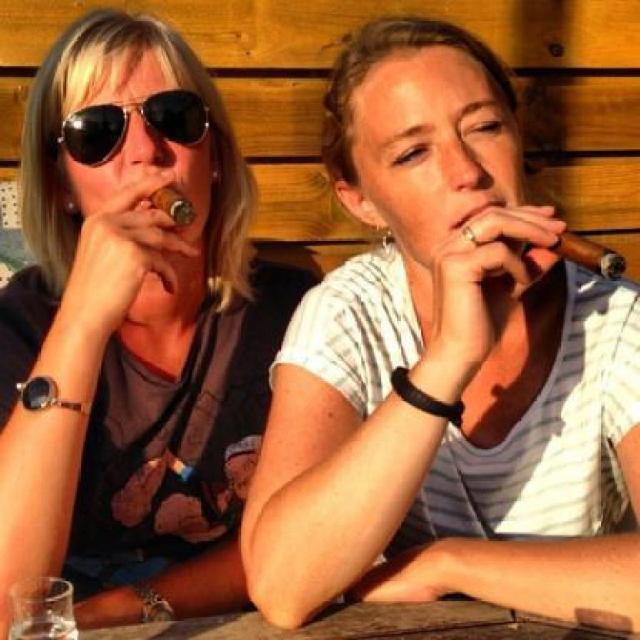face_nomask: (382, 116, 515, 232)
glasses: (48, 74, 234, 157)
hand_noglove: (68, 175, 202, 310), (426, 198, 568, 307)
head_nohelmet: (328, 28, 469, 87), (46, 18, 188, 65)
